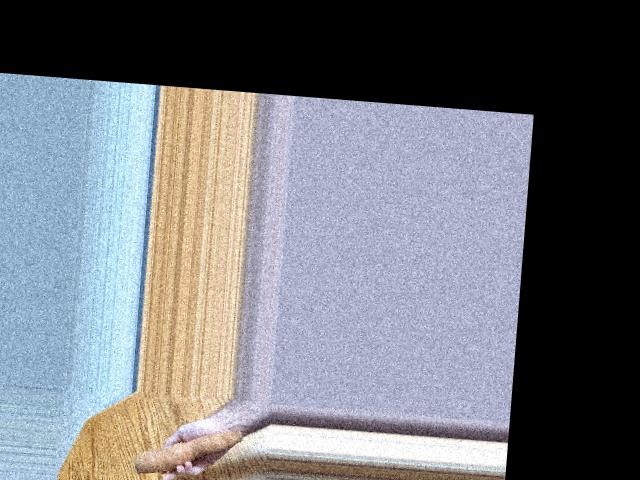sweet_potato: (132, 419, 246, 480)
